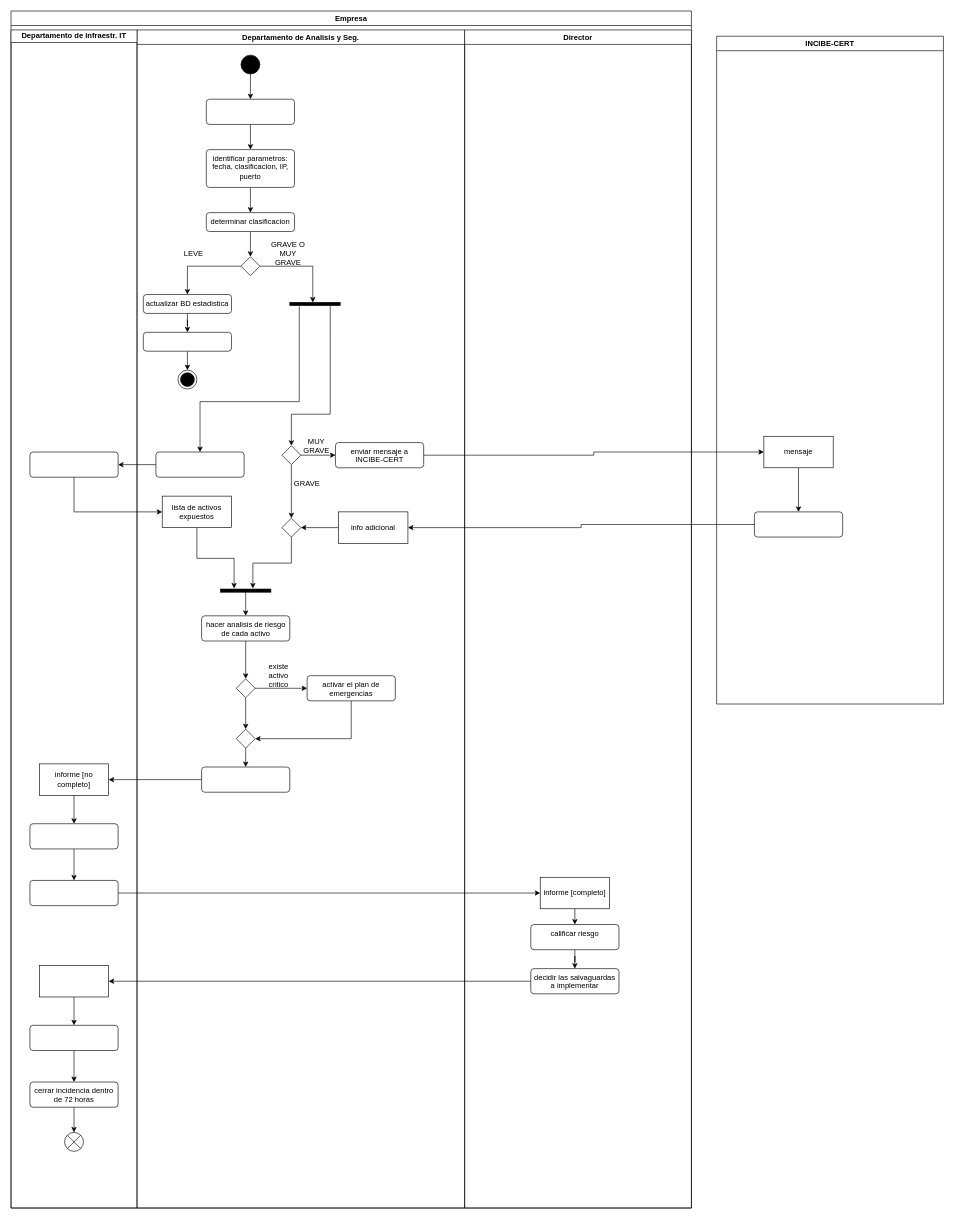
This 954x1219 diagram has some shape labels left out. The centre of each missing label's shape, as x and y in pixels:
"completar informe" goes at [73,836].
"comunicar al equipo infraestructuras IT" goes at [199,464].
"enviar a la directiva" goes at [73,893].
"enviar informacion adicional" goes at [798,524].
"generar informe" goes at [245,779].
"generar lista de activos expuestos" goes at [73,464].
"implementacion" goes at [73,1038].
"Intrusion detectada" goes at [250,111].
"salvaguardas a implementar" goes at [74,981].
"seguir 2 semanas" goes at [187,341].
